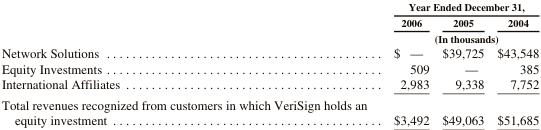table: (0, 0, 538, 127)
table column: (0, 0, 379, 127), (379, 0, 435, 127), (435, 0, 490, 127), (490, 0, 538, 127)
table column header: (0, 0, 538, 44)
table row: (0, 93, 538, 127), (0, 75, 538, 93), (0, 14, 538, 30), (0, 44, 538, 60), (0, 60, 538, 75), (0, 0, 538, 14), (0, 30, 538, 44)
table spanning cell: (379, 0, 538, 14), (379, 30, 538, 44)
